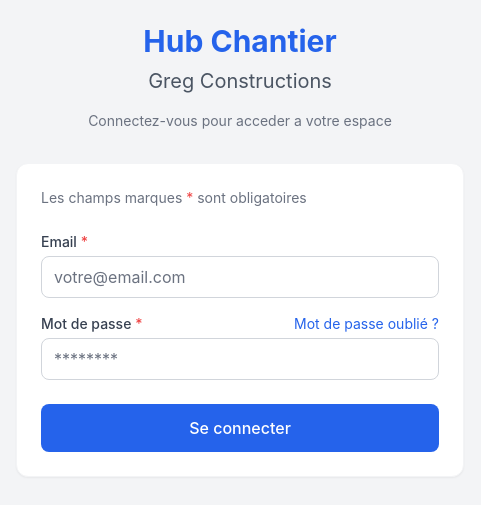
Test: LoginPage › should validate required email field with Zod
This screenshot has width=481, height=505.
// Soumettre sans email (seulement mot de passe)
Step 1. Type "password123" into the password field labelled "Mot de passe *" → (240, 359), box [41, 338, 439, 380]
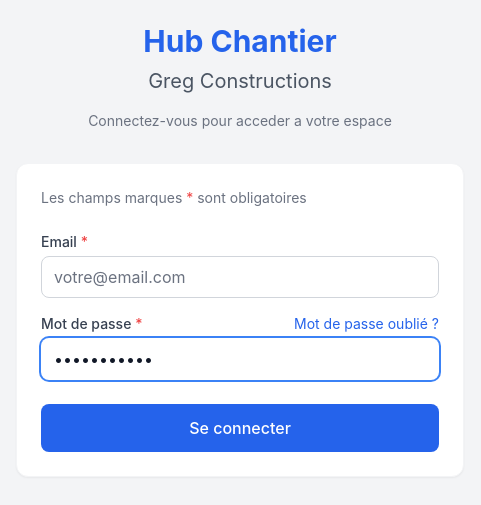
// Use fireEvent.submit to bypass HTML5 native constraint validation
Step 2. Submit the form named "Se connecter", box [16, 163, 464, 477]
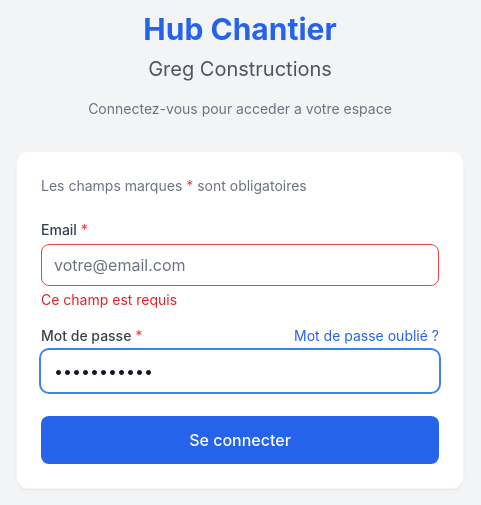
Result: the text "Ce champ est requis" is shown at [41, 291, 177, 308]
